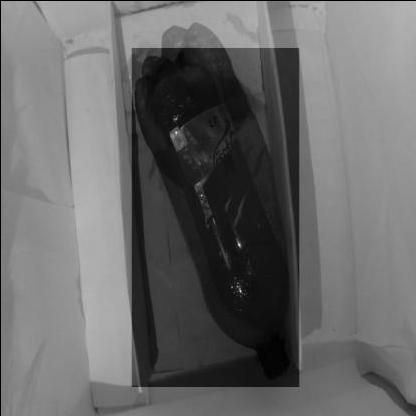plastic_bottles: (130, 46, 297, 385)
